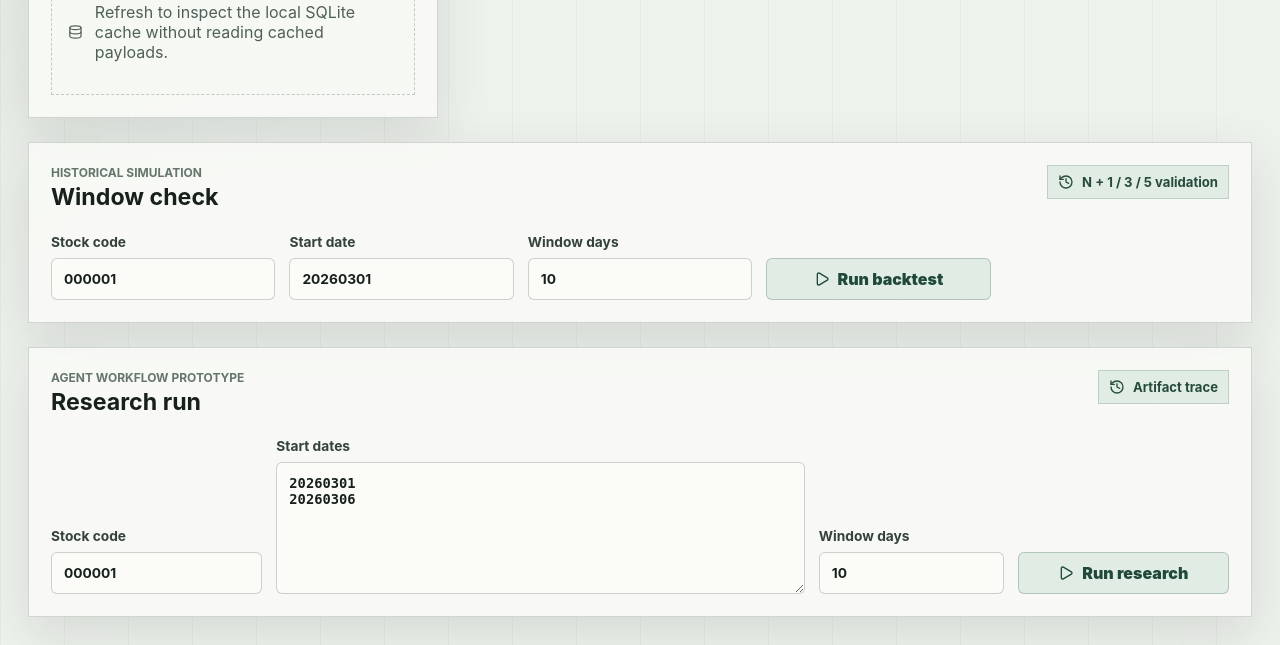
it: App › shows a readable error when research workflow returns an empty response
(page scrolled)
Step 1. Click the button "Run research" → (1123, 573), box top-left (1018, 552), bottom-right (1229, 594)
(page scrolled)
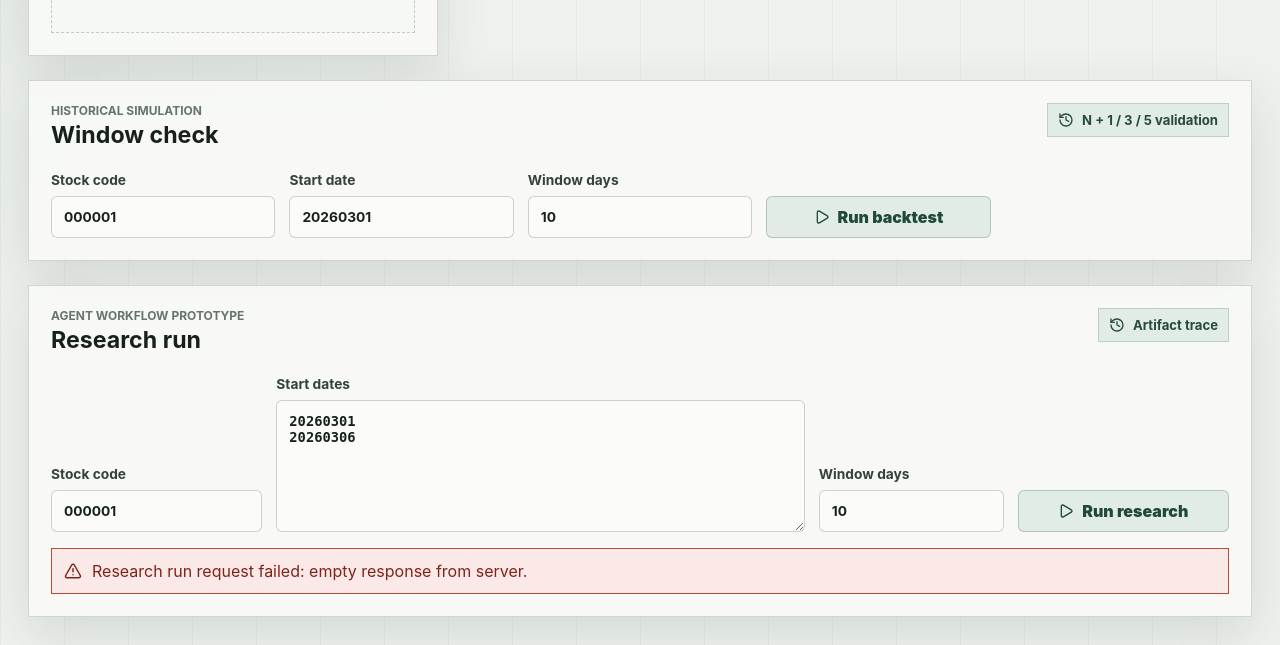
Check: the text "Research run request failed: empty response from server." is shown, box top-left (51, 548), bottom-right (1229, 594)
